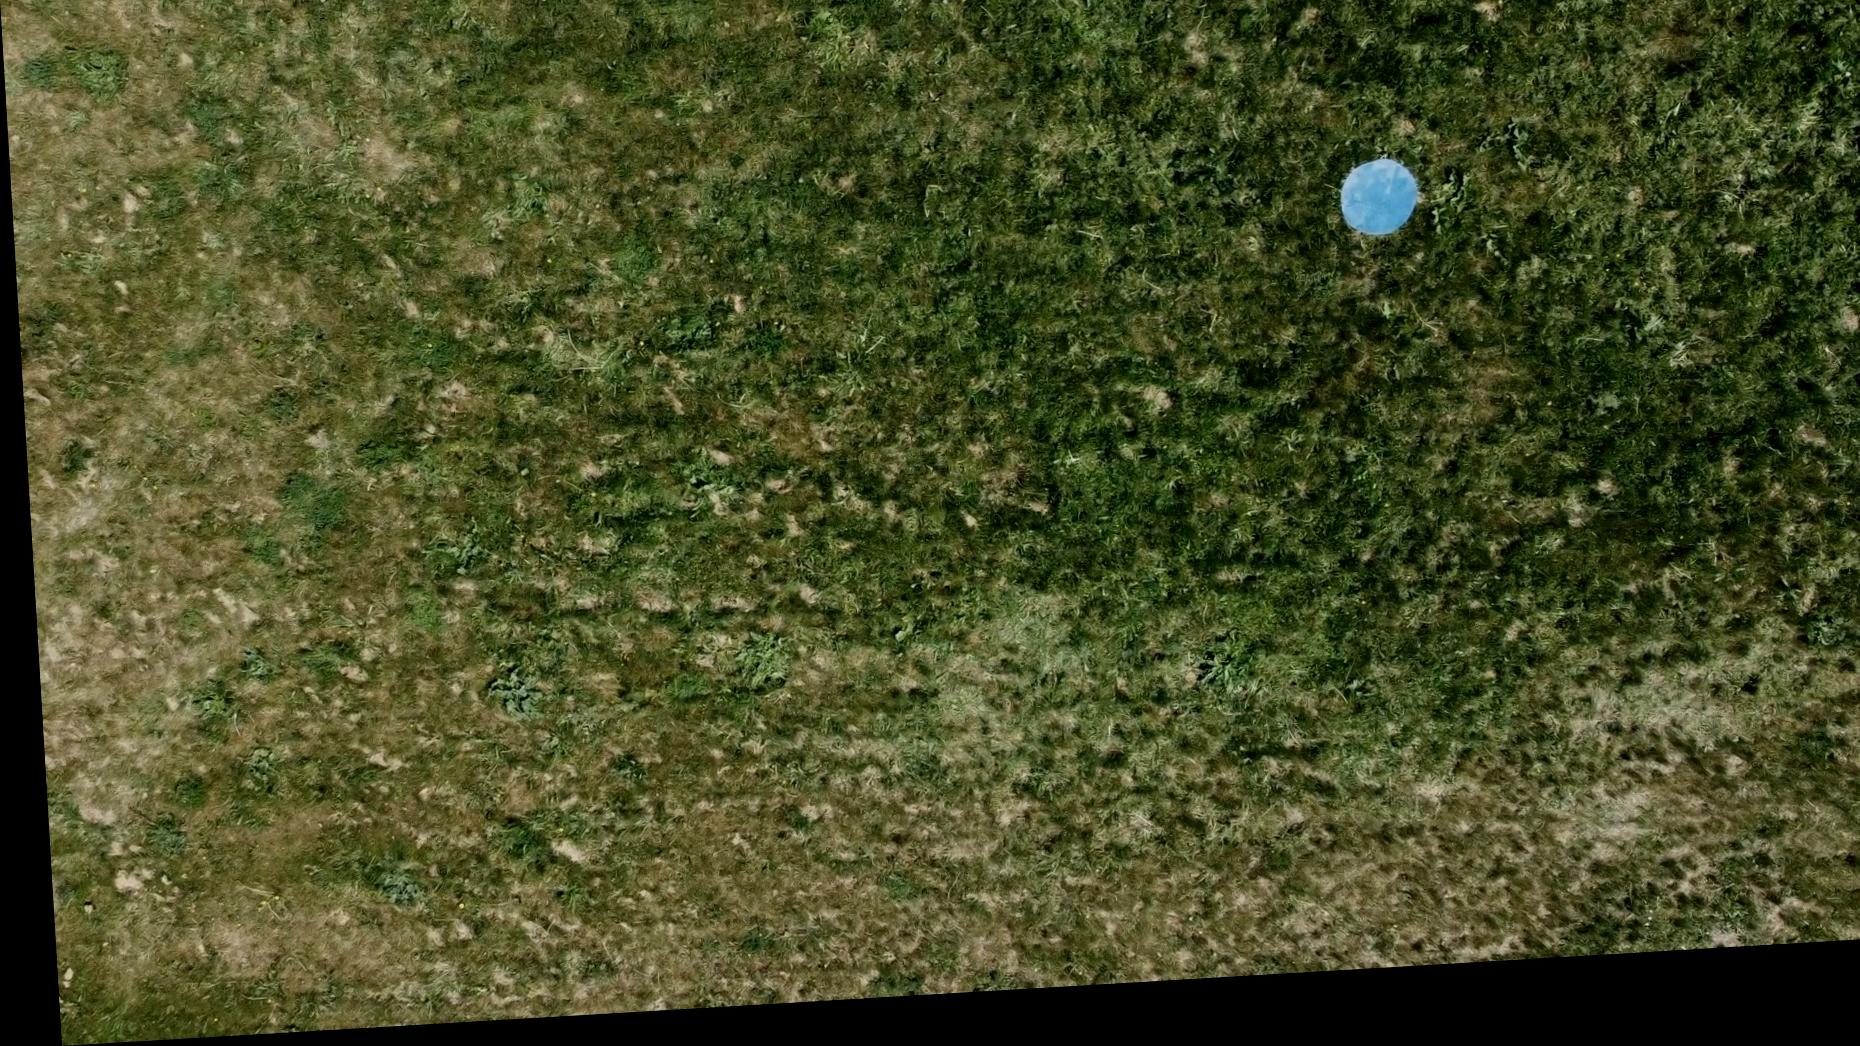Blue: (1331, 170, 1421, 257)
